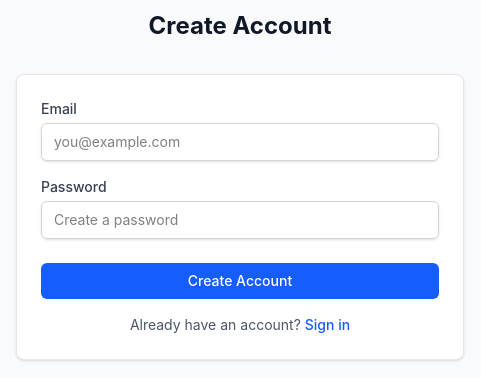
RegisterPage › shows a loading indicator on the button while submitting
In the field labelled "Email": (240, 142) [41,123,439,161], type "a@b.com"
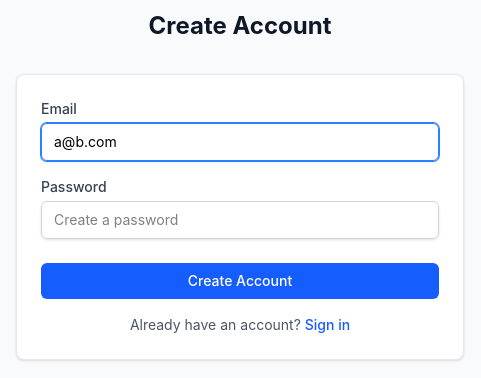
In the password field labelled "Password": (240, 220) [41,201,439,239], type "pwd123"
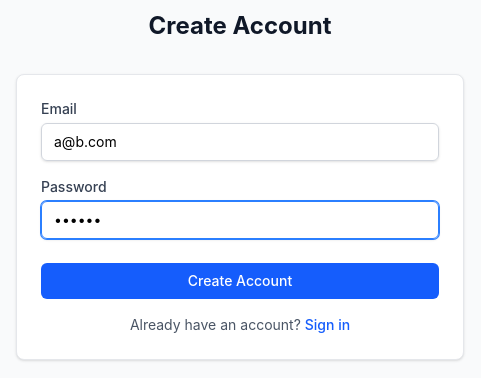
Click the button "Create Account": (240, 281) [41,263,439,299]
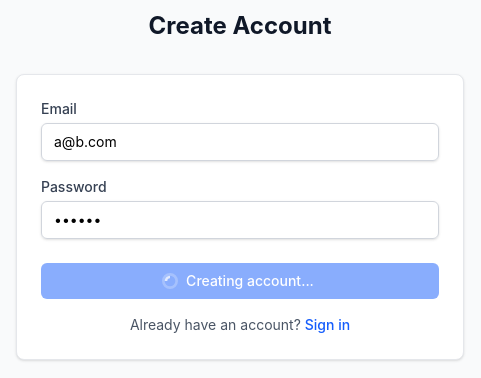
Now the button "Creating account..." is shown, box [41,263,439,299]
